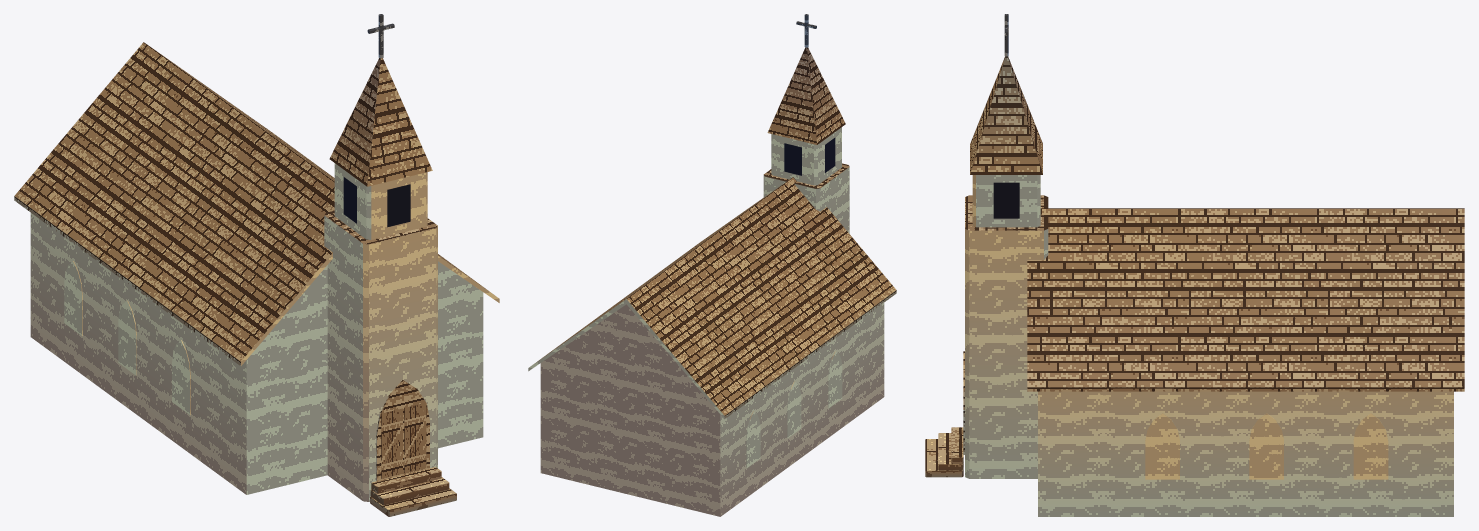
File: wtown.church.glb
3 views of the same model, side by side, from view 1: azimuth 30°, elevation 25°; view 2: azimuth 150°, elevation 25°; view 3: azimuth 270°, elevation 25° (orthographic). The views are drawn at different scales.
Visible parts, largest first — view 1: kit_roof, kit_body, kit_tower, kit_spire, kit_card_panes, kit_belfry, kit_windows, kit_steps, kit_trim; view 2: kit_body, kit_roof, kit_spire, kit_belfry, kit_tower, kit_windows, kit_card_panes; view 3: kit_roof, kit_body, kit_tower, kit_windows, kit_spire, kit_belfry, kit_steps, kit_card_panes.
Part boxes in pixels (<box>): kit_roof: <box>14,42,499,365</box>; kit_body: <box>30,213,483,494</box>; kit_tower: <box>324,211,437,501</box>; kit_spire: <box>329,58,432,186</box>; kit_card_panes: <box>343,177,426,478</box>; kit_belfry: <box>334,163,427,239</box>; kit_windows: <box>64,261,190,415</box>; kit_steps: <box>370,467,456,516</box>; kit_trim: <box>376,380,429,481</box>; kit_body: <box>540,303,884,516</box>; kit_roof: <box>528,177,896,419</box>; kit_spire: <box>767,47,845,144</box>; kit_belfry: <box>771,127,841,185</box>; kit_tower: <box>763,163,849,233</box>; kit_windows: <box>746,351,842,468</box>; kit_card_panes: <box>784,137,835,175</box>; kit_roof: <box>1027,208,1464,391</box>; kit_body: <box>1038,391,1453,516</box>; kit_tower: <box>965,195,1048,478</box>; kit_windows: <box>1145,413,1388,479</box>; kit_spire: <box>970,56,1042,174</box>; kit_belfry: <box>972,175,1040,227</box>; kit_steps: <box>925,427,963,477</box>; kit_card_panes: <box>993,182,1019,218</box>.
Size of the model in its own units: 8.3 by 14.2 by 15.54.
9 materials, 9 textured.
